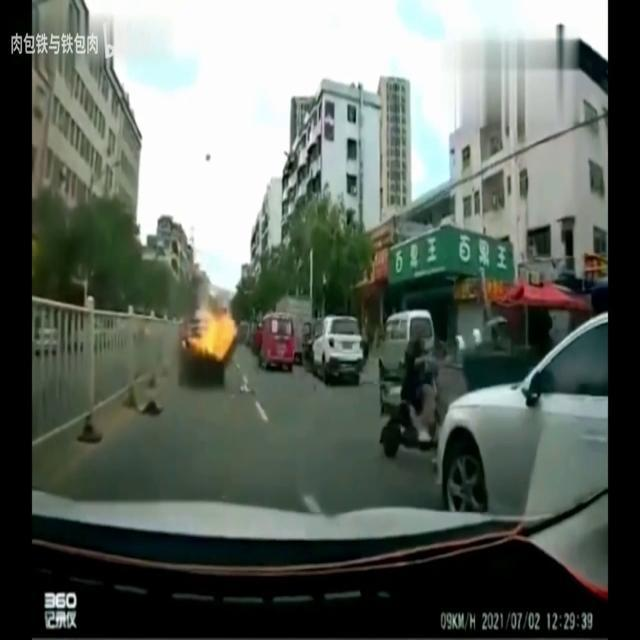normal: (342, 282, 478, 467), (257, 285, 372, 400)
single accident: (162, 240, 238, 407)
